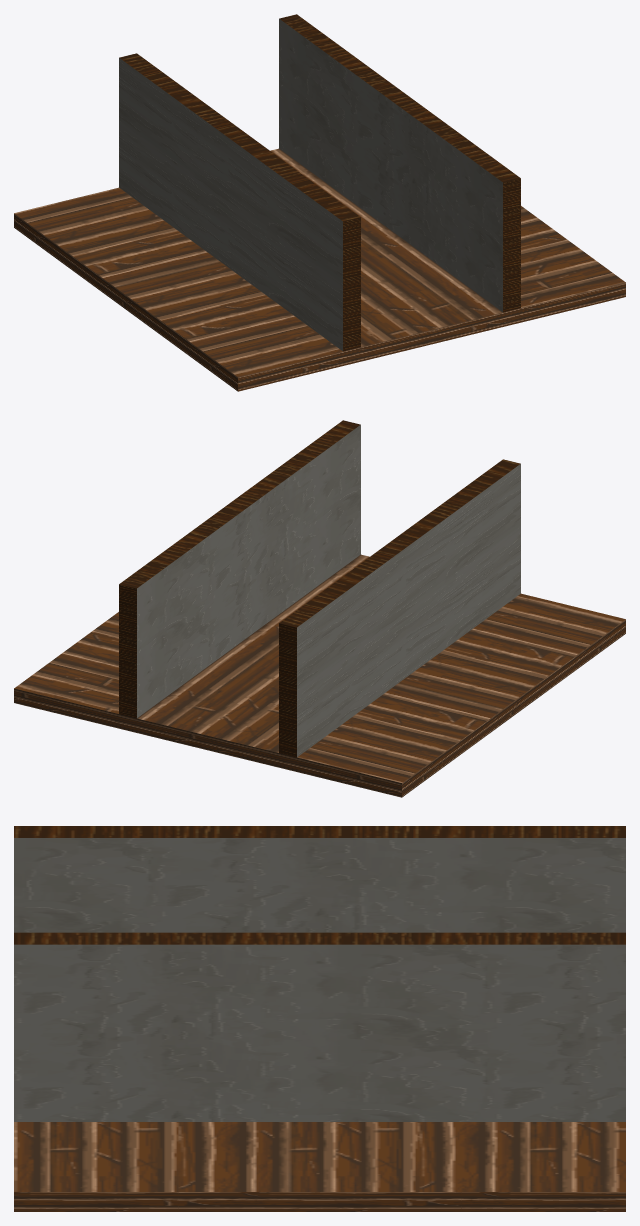
File: room-05.fbx
The picture shows the model from 3 angles, top to bottom: view 1: azimuth 30°, elevation 25°; view 2: azimuth 150°, elevation 25°; view 3: azimuth 270°, elevation 25°; orthographic projection. The views are drawn at different scales.
Visible parts, largest first — view 1: 05; view 2: 05; view 3: 05.
Boxes of the visible parts, x1,y1,x2,y2 form: 05: (14, 14, 625, 391); 05: (14, 420, 625, 797); 05: (14, 826, 625, 1211).
Bounding box in the file's own units: 600 × 213 × 600.
Materials: 1 (1 with a texture image).
